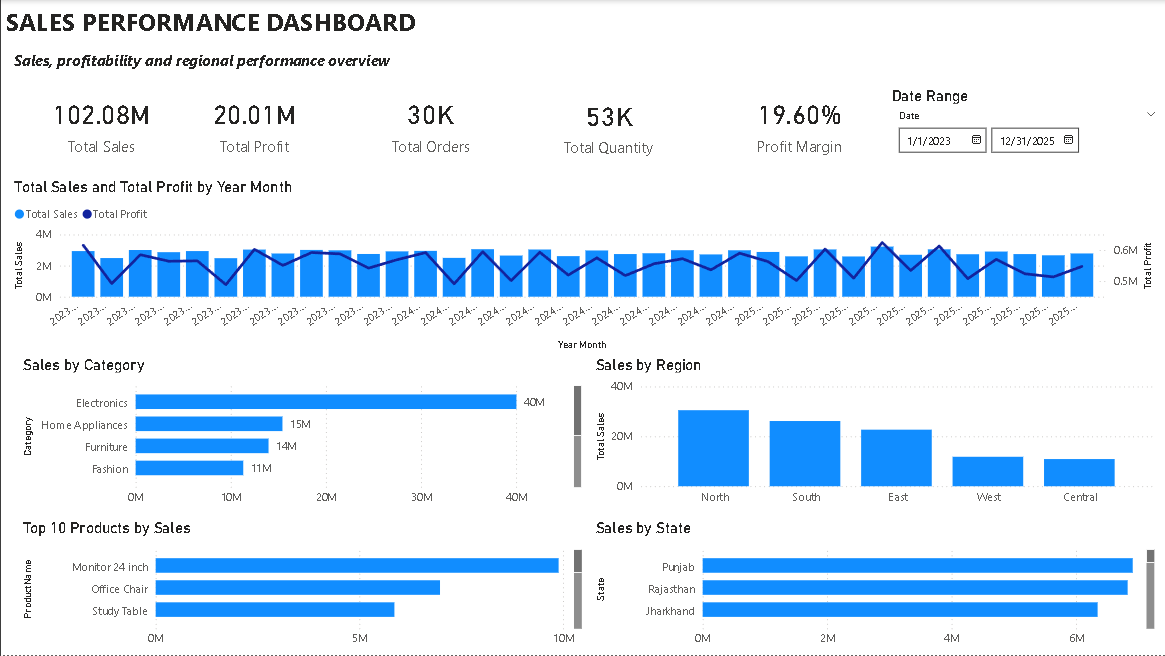

This screenshot's page, from the dashboard's own definition file:
{"tool":"powerbi","page":{"name":"Sales Overview","canvas":[1280,720],"ordinal":0},"visuals":[{"type":"card","fields":{"Values":["DimCustomer.Total Sales"]},"box":[9.6,79.6,201.7,112.5],"z":0},{"type":"card","fields":{"Values":["DimCustomer.Total Profit"]},"box":[182.5,79.6,192.1,112.5],"z":1000},{"type":"card","fields":{"Values":["DimCustomer.Total Orders"]},"box":[374.6,79.6,194.9,112.5],"z":2000},{"type":"card","fields":{"Values":["DimCustomer.Total Quantity"]},"box":[569.5,79.6,196.2,115.3],"z":3000},{"type":"card","fields":{"Values":["DimCustomer.Profit Margin"]},"box":[780.8,79.6,192.1,112.5],"z":4000},{"type":"lineClusteredColumnComboChart","fields":{"Category":["DimDate.Year Month"],"Y":["DimCustomer.Total Sales"],"Y2":["DimCustomer.Total Profit"]},"box":[9.6,194.9,1261.1,194.9],"z":5000},{"type":"clusteredBarChart","title":"Sales by Category","fields":{"Category":["DimProduct.Category"],"Y":["DimCustomer.Total Sales"]},"box":[19.2,389.7,623,174.3],"z":6000},{"type":"clusteredColumnChart","title":"Sales by Region","fields":{"Category":["DimLocation.Region"],"Y":["DimCustomer.Total Sales"]},"box":[647.7,389.7,623,174.3],"z":7000},{"type":"clusteredBarChart","title":"Top 10 Products by Sales","fields":{"Category":["DimProduct.ProductName"],"Y":["DimCustomer.Total Sales"]},"box":[19,570,623,150],"z":8000},{"type":"barChart","title":"Sales by State","fields":{"Category":["DimLocation.State"],"Y":["DimCustomer.Total Sales"]},"box":[648,570,623,150],"z":9000},{"type":"slicer","title":"Date Range","fields":{"Values":["DimDate.Date"]},"box":[972.9,94.7,307.4,97.4],"z":10000},{"type":"textbox","box":[0,0,485.8,49.4],"z":10001},{"type":"textbox","box":[9.6,49.4,526.9,46.7],"z":10002}]}

Visuals, with their boxes in screenshot pixels (x1, y1, x2, y2), scaled from the page's 1280x720 canvas onto the 1165x656 screenshot:
card - DimCustomer.Total Sales: region(9, 73, 192, 175)
card - DimCustomer.Total Profit: region(166, 73, 341, 175)
card - DimCustomer.Total Orders: region(341, 73, 518, 175)
card - DimCustomer.Total Quantity: region(518, 73, 697, 178)
card - DimCustomer.Profit Margin: region(711, 73, 885, 175)
lineClusteredColumnComboChart - DimDate.Year Month x DimCustomer.Total Sales: region(9, 178, 1157, 355)
"Sales by Category" clusteredBarChart: region(17, 355, 585, 514)
"Sales by Region" clusteredColumnChart: region(590, 355, 1157, 514)
"Top 10 Products by Sales" clusteredBarChart: region(17, 519, 584, 655)
"Sales by State" barChart: region(590, 519, 1157, 655)
"Date Range" slicer: region(885, 86, 1164, 175)
textbox: region(0, 0, 442, 45)
textbox: region(9, 45, 488, 88)
